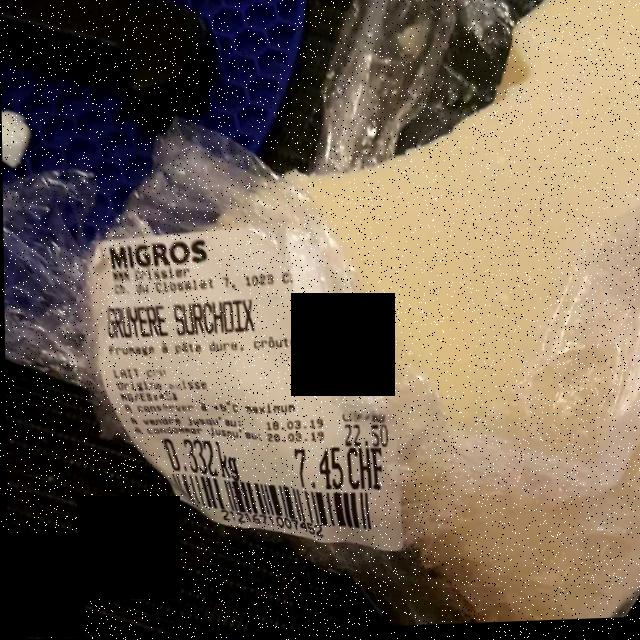gruyere: (220, 0, 629, 615)
